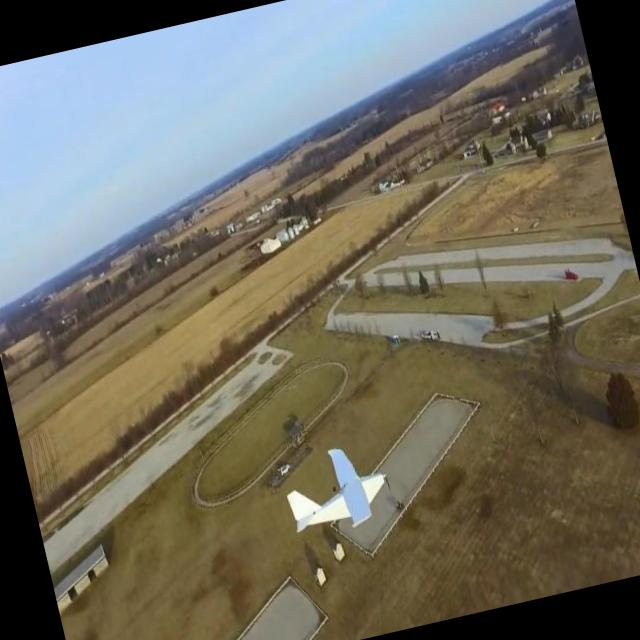UAV: (268, 414, 484, 572)
